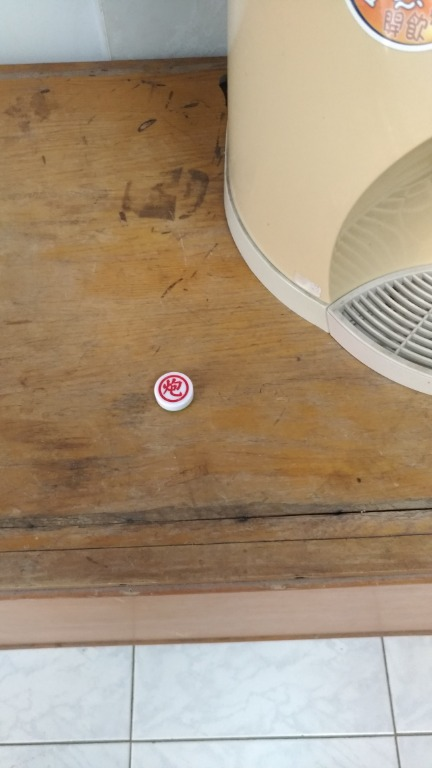r-cannon: (140, 360, 218, 434)
